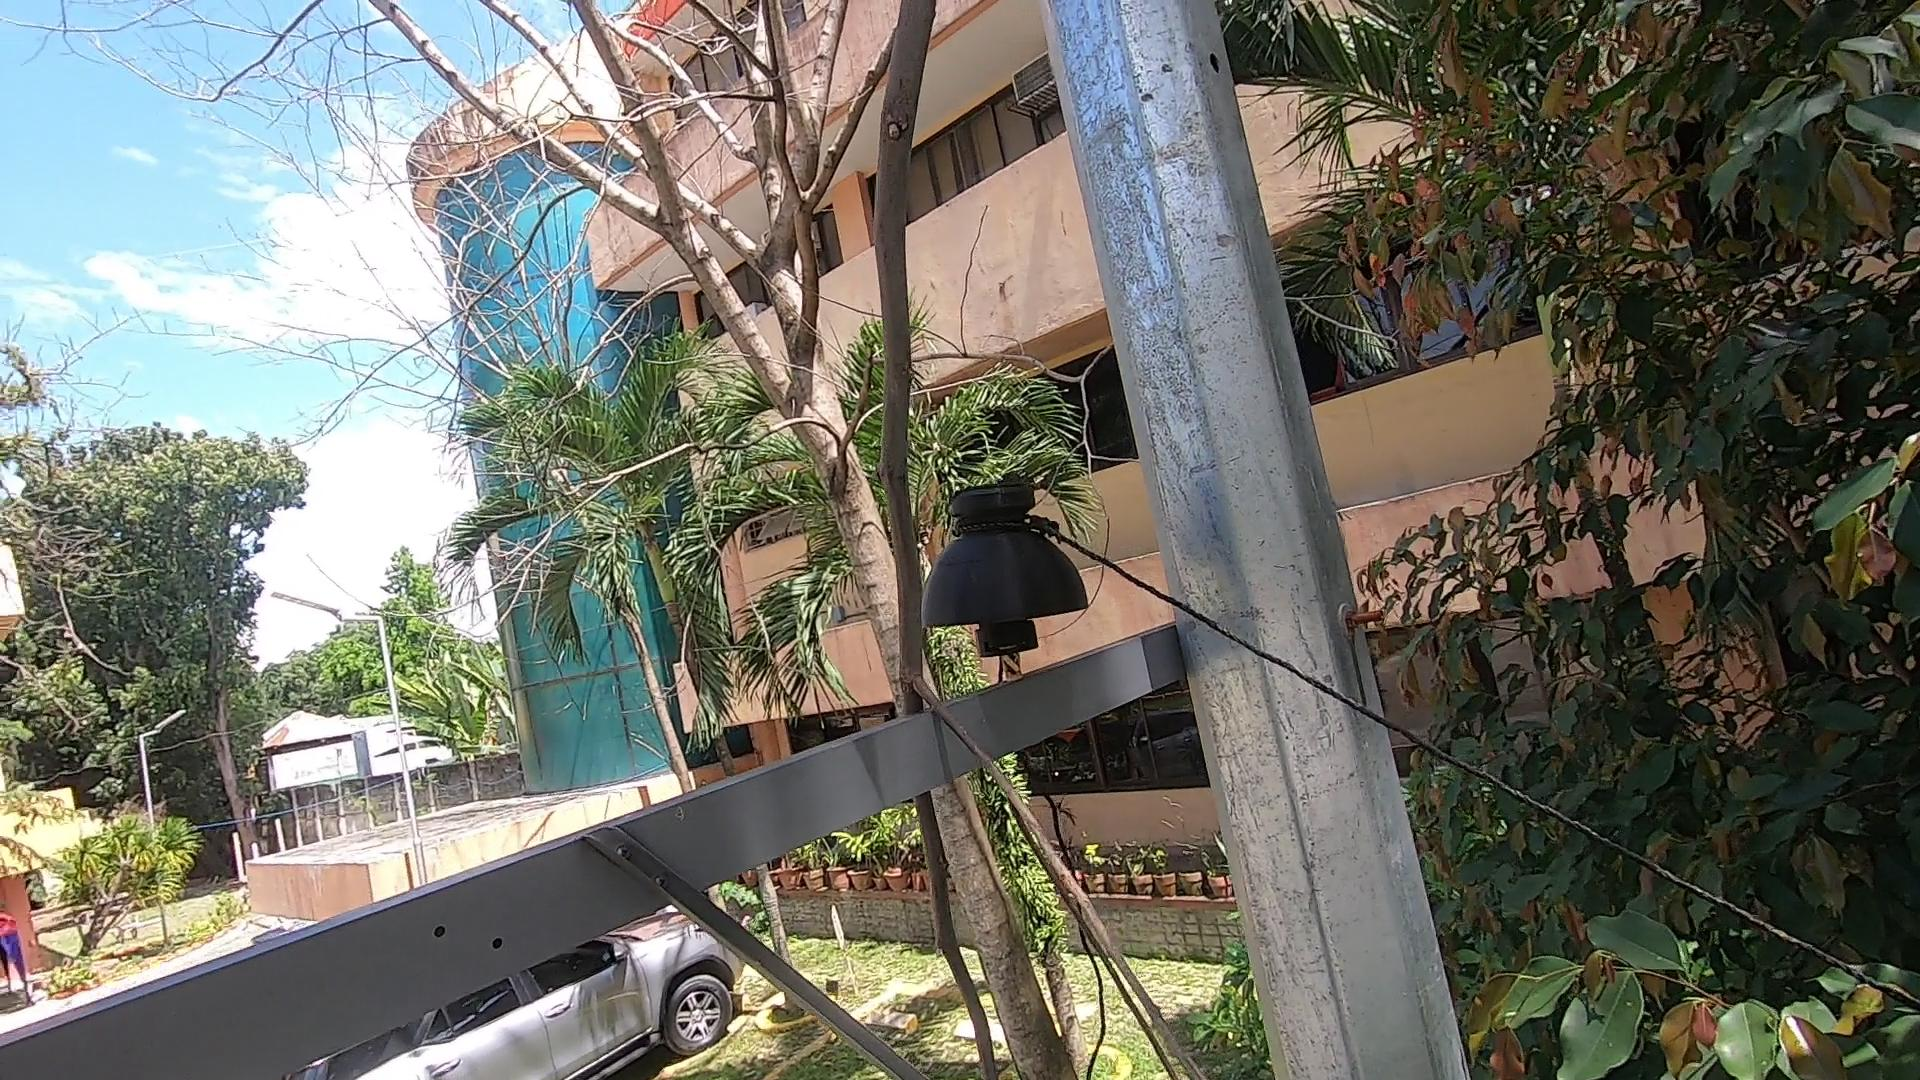tree branch: (837, 3, 1246, 1080)
